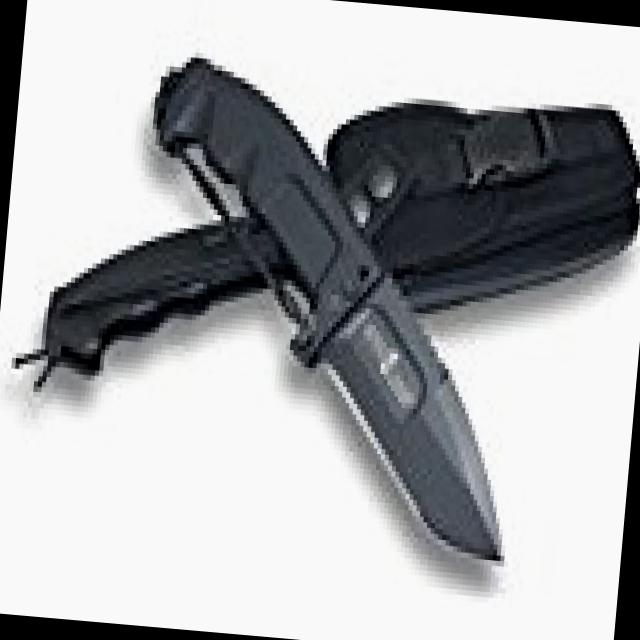knife: (288, 260, 532, 572)
